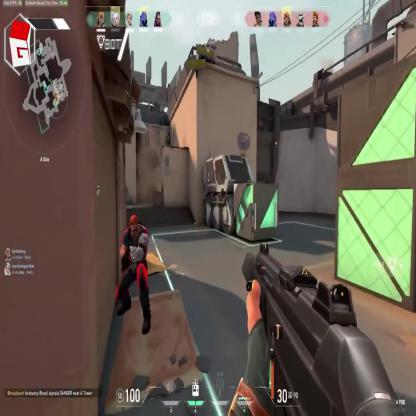enemy: (116, 214, 152, 335)
enemy_head: (129, 215, 138, 238)
